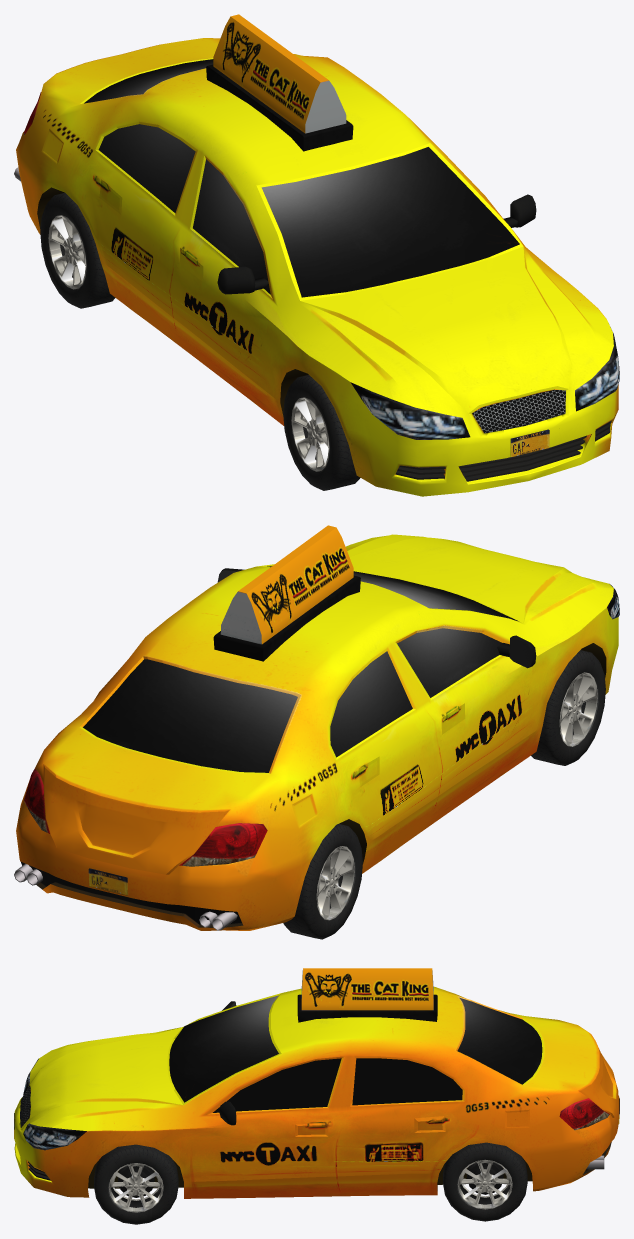
The model's file is taxi.fbx.
The picture shows the model from 3 angles, top to bottom: view 1: azimuth 30°, elevation 25°; view 2: azimuth 150°, elevation 25°; view 3: azimuth 270°, elevation 25°; orthographic projection. The views are drawn at different scales.
Visible parts, largest first — view 1: yellowcab28:body, yellowcab28:signboard, yellowcab28:tire4, yellowcab28:tire5, yellowcab28:sidemirror, yellowcab28:pCube5, yellowcab28:pCube4, yellowcab28:numberplate; view 2: yellowcab28:body, yellowcab28:signboard, yellowcab28:tire5, yellowcab28:tire4, yellowcab28:sidemirror, yellowcab28:numberplate2; view 3: yellowcab28:body, yellowcab28:signboard, yellowcab28:tire4, yellowcab28:tire5, yellowcab28:sidemirror.
Boxes of the visible parts, x1=… form: yellowcab28:body: x1=16, y1=38, x2=619, y2=496; yellowcab28:signboard: x1=206, y1=14, x2=353, y2=151; yellowcab28:tire4: x1=283, y1=375, x2=360, y2=490; yellowcab28:tire5: x1=40, y1=192, x2=115, y2=308; yellowcab28:sidemirror: x1=217, y1=194, x2=536, y2=294; yellowcab28:pCube5: x1=395, y1=425, x2=610, y2=479; yellowcab28:pCube4: x1=397, y1=421, x2=611, y2=474; yellowcab28:numberplate: x1=510, y1=429, x2=549, y2=456; yellowcab28:body: x1=16, y1=534, x2=619, y2=930; yellowcab28:signboard: x1=213, y1=525, x2=360, y2=661; yellowcab28:tire5: x1=283, y1=824, x2=362, y2=939; yellowcab28:tire4: x1=531, y1=650, x2=605, y2=765; yellowcab28:sidemirror: x1=217, y1=568, x2=536, y2=668; yellowcab28:numberplate2: x1=88, y1=868, x2=128, y2=895; yellowcab28:body: x1=14, y1=986, x2=619, y2=1198; yellowcab28:signboard: x1=297, y1=968, x2=437, y2=1022; yellowcab28:tire4: x1=94, y1=1144, x2=178, y2=1224; yellowcab28:tire5: x1=443, y1=1142, x2=527, y2=1221; yellowcab28:sidemirror: x1=219, y1=1001, x2=236, y2=1125.
Bounding box in the file's own units: 32.36 × 28.36 × 74.83.
